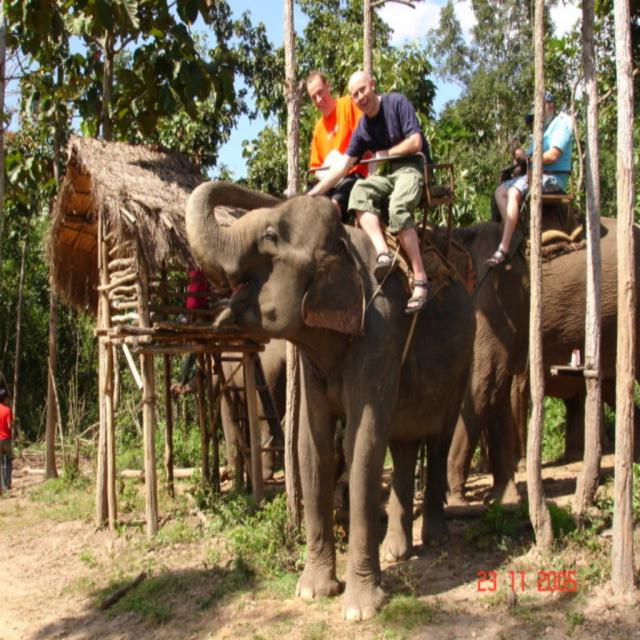elephant: (196, 161, 489, 601), (426, 196, 639, 503)
